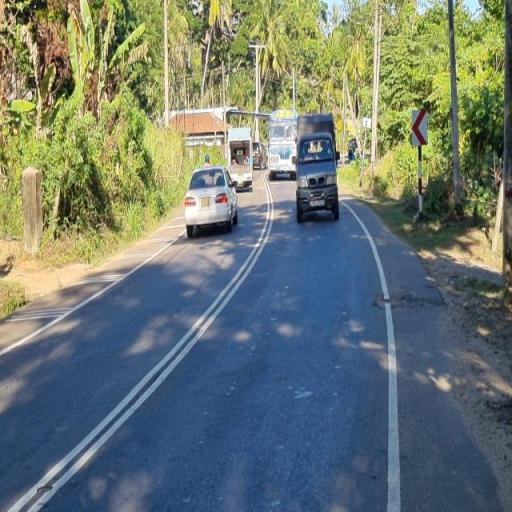double_white_line: (10, 174, 275, 512)
